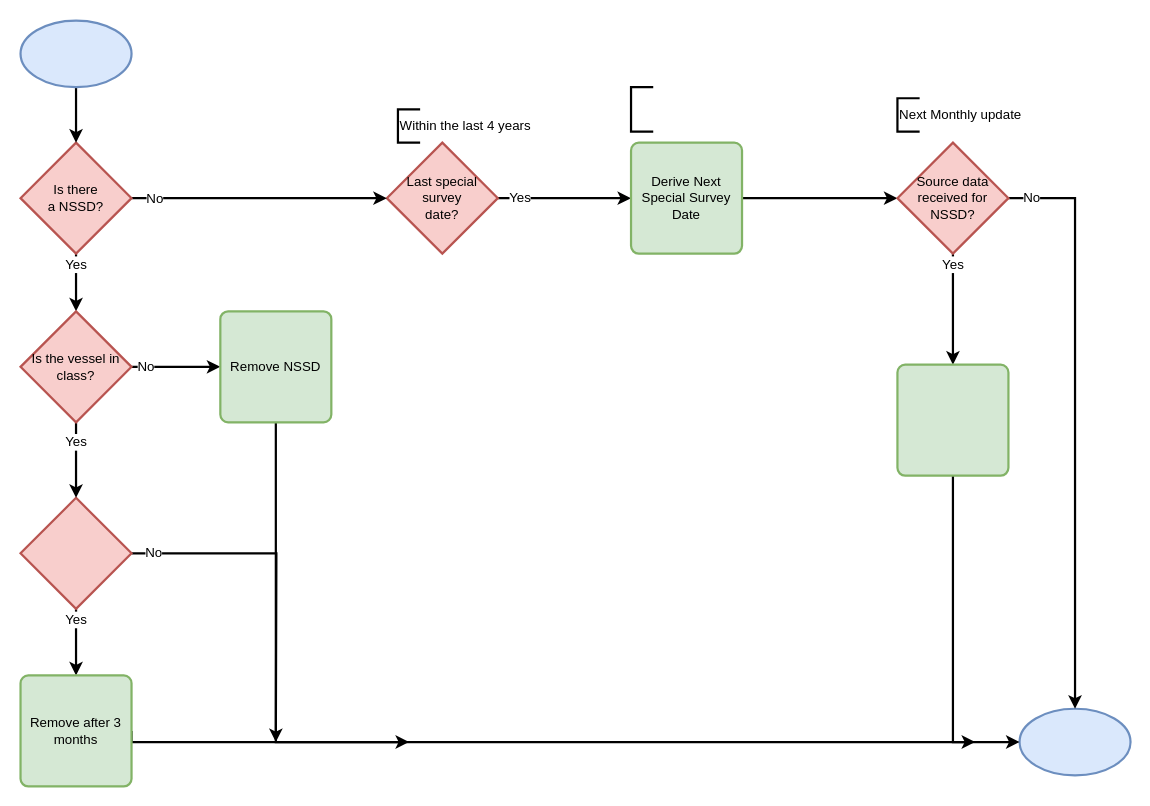
The diagram is 1150 pixels wide and 806 high, and some of its shapes have lost their labels. The box of each missing label's shape, as (x1, y1, x2, y2) in pixels:
Add 5 years to the Last Special Survey Date: (629, 85, 654, 132)
End: (1018, 707, 1131, 776)
Has the date passed?: (19, 496, 132, 609)
Replace the derived NSSD: (896, 363, 1009, 476)
Start: (19, 19, 132, 88)
